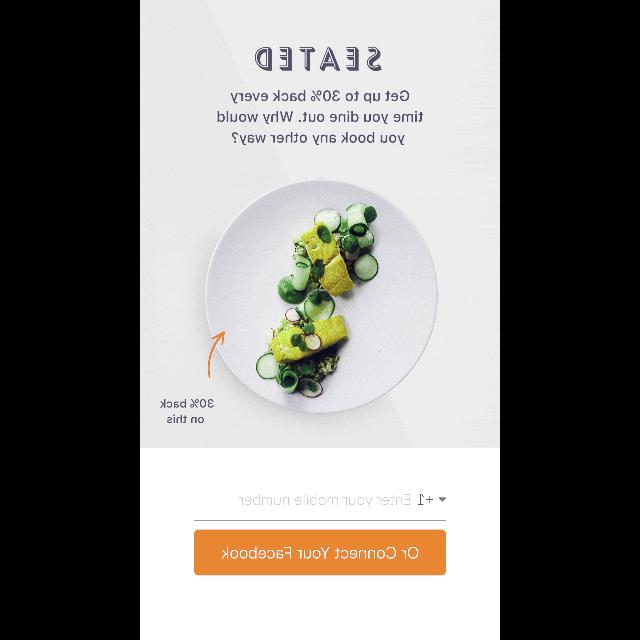icon: (438, 498, 446, 502)
image: (205, 178, 438, 414)
input: (194, 493, 446, 521)
text: (217, 90, 423, 146), (255, 47, 382, 71), (238, 494, 410, 508), (160, 399, 214, 423), (418, 494, 432, 504)
textbutton: (194, 530, 446, 576)
